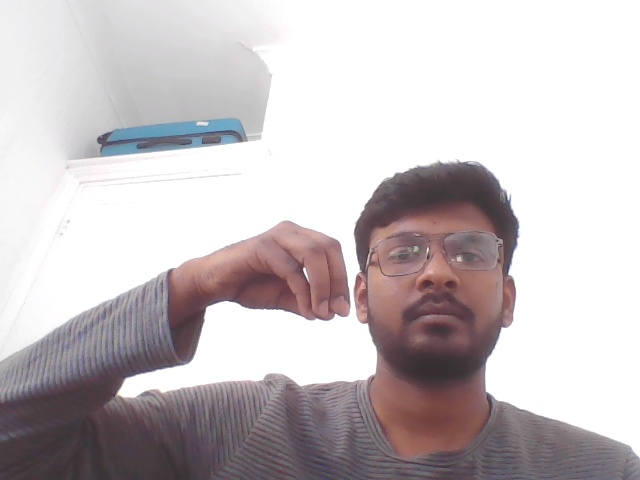Yes: (158, 194, 356, 394)
